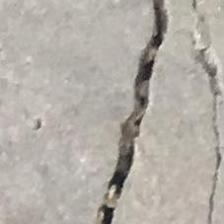Crack: (86, 0, 224, 224)
